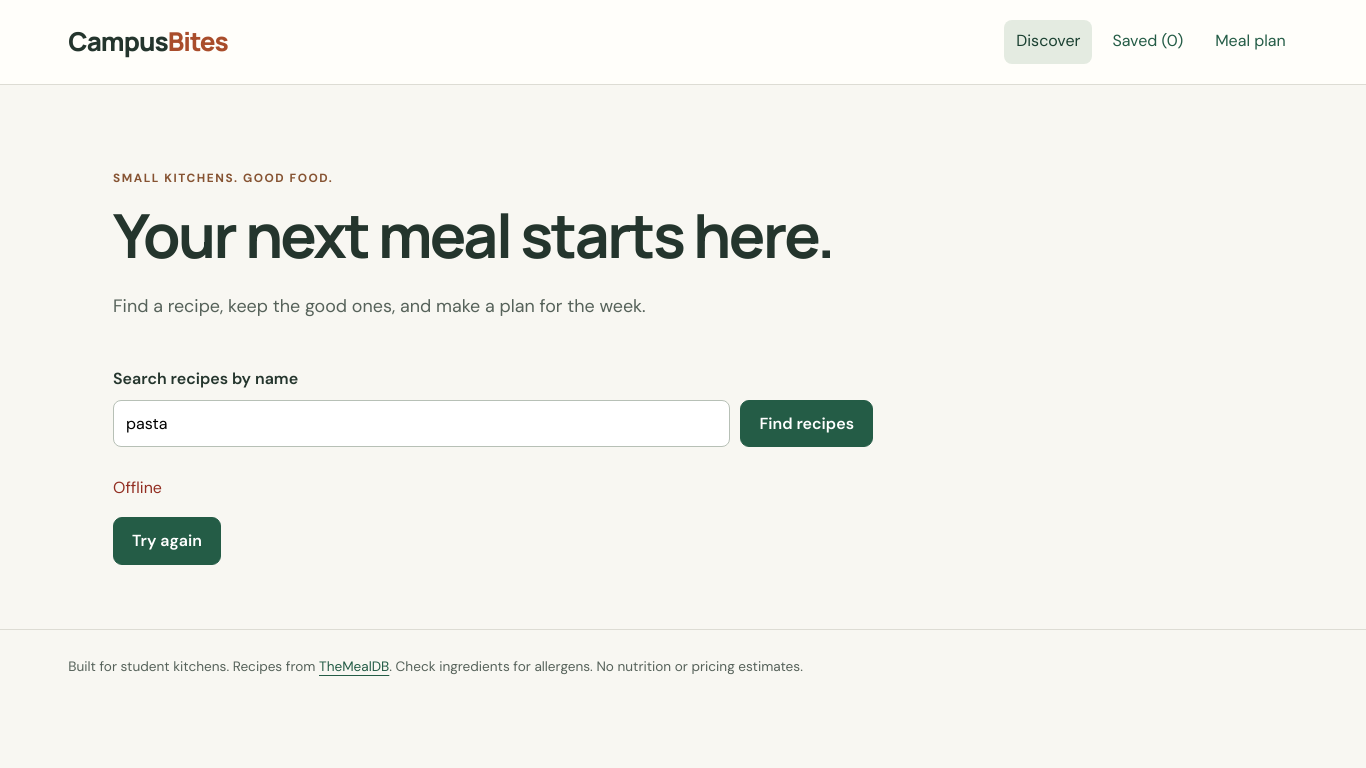
network failure supports retry
Expected: the message shows "Offline", left=113, top=477, right=162, bottom=498
Click the button "Try again" at (167, 541), box left=113, top=517, right=221, bottom=565
(page scrolled)
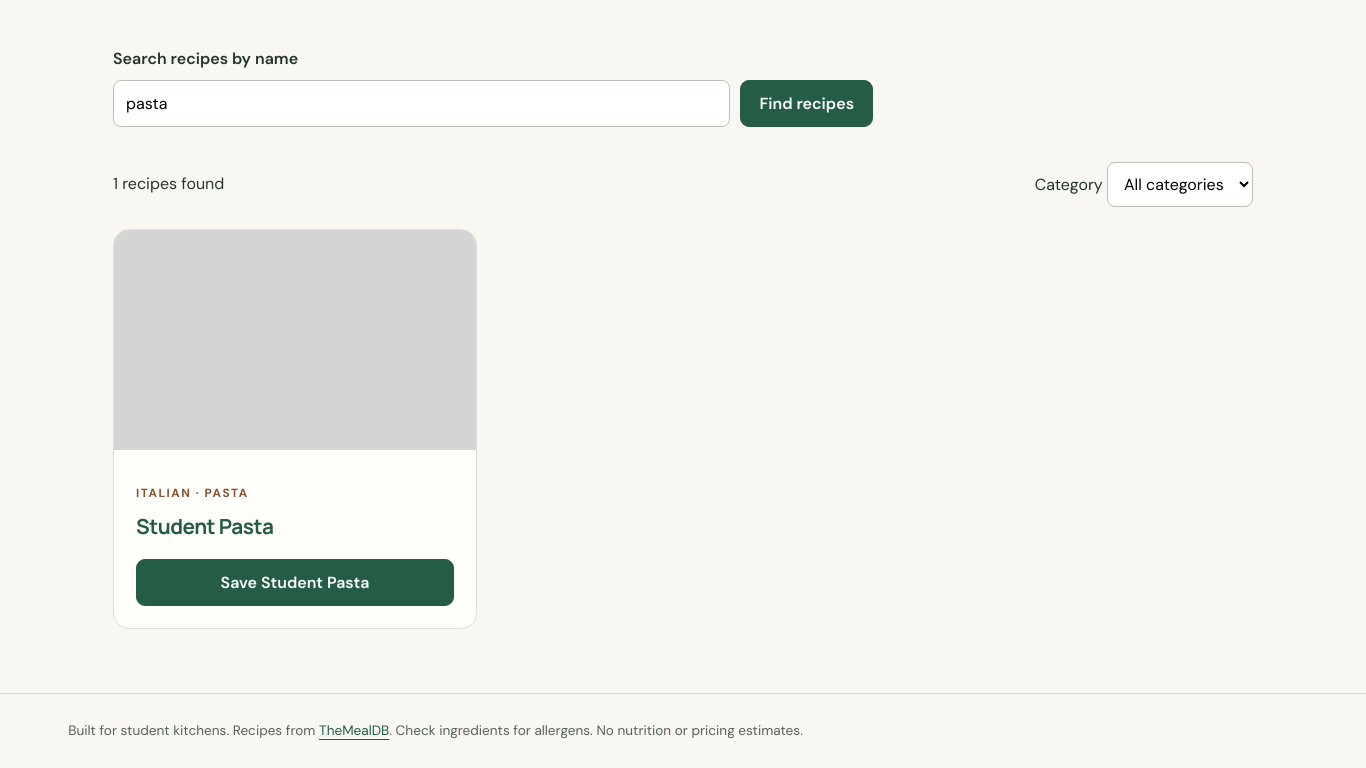
Expected: the heading "Student Pasta" is shown, left=136, top=512, right=273, bottom=540
